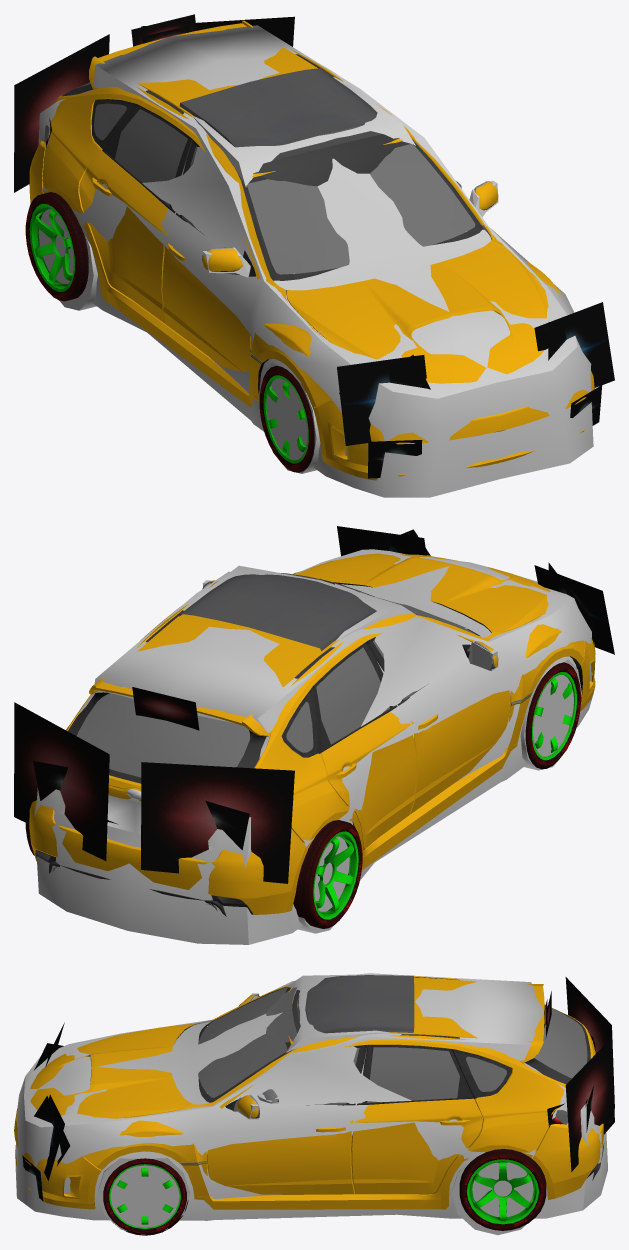
The model's file is P_car-005_Limpeza.fbx.
3 renders of one model, top to bottom at view 1: azimuth 30°, elevation 25°; view 2: azimuth 150°, elevation 25°; view 3: azimuth 270°, elevation 25°, orthographic. The views are drawn at different scales.
Visible parts, largest first — view 1: M_Car-005_ShadowForm_Limpeza_01, M_Car-005_Body_Limpeza_01 (1), M_Car-005_Glass_Limpeza_01 (1), M_Car-Interior_Details_01, M_Car-005_FrontFlares_Limpeza_01, M_Car-005_BackFlaresBrake_Limpeza_01, M_Car-005_Details_Limpeza_01 (1), M_CarWheel-002_L_AP_01 (×2), M_Car-Interior_Glass_01, M_Car-Interior_Shadowform_01, M_CarTire-002_L_AP_01, M_CarTire-002_L_AP; view 2: M_Car-005_ShadowForm_Limpeza_01, M_Car-005_Body_Limpeza_01 (1), M_Car-005_BackFlaresBrake_Limpeza_01, M_Car-005_Glass_Limpeza_01 (1), M_Car-Interior_Details_01, M_Car-005_Details_Limpeza_01 (1), M_Car-005_FrontFlares_Limpeza_01, M_CarWheel-002_L_AP_01 (×2), M_CarTire-002_L_AP (×2), M_Car-005_BackLights_Limpeza_01, M_Car-Interior_Shadowform_01, M_CarTire-002_L_AP_01; view 3: M_Car-005_Body_Limpeza_01 (1), M_Car-005_ShadowForm_Limpeza_01, M_Car-005_Glass_Limpeza_01 (1), M_Car-Interior_Details_01, M_Car-005_BackFlaresBrake_Limpeza_01, M_Car-005_Details_Limpeza_01 (1), M_CarWheel-002_L_AP_01 (×2), M_Car-005_FrontFlares_Limpeza_01, M_Car-Interior_Shadowform_01, M_CarTire-002_L_AP (×2), M_CarTire-002_L_AP_01 (×2), M_Car-Interior_Glass_01.
Boxes of the visible parts, x1,y1,x2,y2 form: M_Car-005_ShadowForm_Limpeza_01: (38,25,593,497); M_Car-005_Body_Limpeza_01 (1): (29,20,595,480); M_Car-005_Glass_Limpeza_01 (1): (44,82,475,274); M_Car-Interior_Details_01: (179,68,461,188); M_Car-005_FrontFlares_Limpeza_01: (337,302,614,478); M_Car-005_BackFlaresBrake_Limpeza_01: (14,14,294,192); M_Car-005_Details_Limpeza_01 (1): (61,54,504,432); M_CarWheel-002_L_AP_01 (×2): (25,192,314,472); M_Car-Interior_Glass_01: (253,134,398,186); M_Car-Interior_Shadowform_01: (193,83,467,273); M_CarTire-002_L_AP_01: (29,203,63,274); M_CarTire-002_L_AP: (41,221,74,291); M_Car-005_ShadowForm_Limpeza_01: (34,549,593,944); M_Car-005_Body_Limpeza_01 (1): (29,553,595,914); M_Car-005_BackFlaresBrake_Limpeza_01: (14,687,294,883); M_Car-005_Glass_Limpeza_01 (1): (77,597,474,777); M_Car-Interior_Details_01: (179,573,376,651); M_Car-005_Details_Limpeza_01 (1): (35,581,582,916); M_Car-005_FrontFlares_Limpeza_01: (337,526,614,654); M_CarWheel-002_L_AP_01 (×2): (293,662,580,928); M_CarTire-002_L_AP (×2): (320,672,576,919); M_Car-005_BackLights_Limpeza_01: (33,761,249,850); M_Car-Interior_Shadowform_01: (195,565,467,640); M_CarTire-002_L_AP_01: (313,831,346,919); M_Car-005_Body_Limpeza_01 (1): (14,976,603,1209); M_Car-005_ShadowForm_Limpeza_01: (15,973,607,1235); M_Car-005_Glass_Limpeza_01 (1): (198,987,587,1124); M_Car-Interior_Details_01: (257,975,414,1101); M_Car-005_BackFlaresBrake_Limpeza_01: (544,977,614,1171); M_Car-005_Details_Limpeza_01 (1): (94,977,604,1203); M_CarWheel-002_L_AP_01 (×2): (103,1149,546,1235); M_Car-005_FrontFlares_Limpeza_01: (22,1022,69,1201); M_Car-Interior_Shadowform_01: (207,974,390,1103); M_CarTire-002_L_AP (×2): (127,1164,538,1228); M_CarTire-002_L_AP_01 (×2): (109,1159,520,1224); M_Car-Interior_Glass_01: (266,987,297,1042).
Bounding box in the file's own units: 2 × 1.52 × 4.46.
